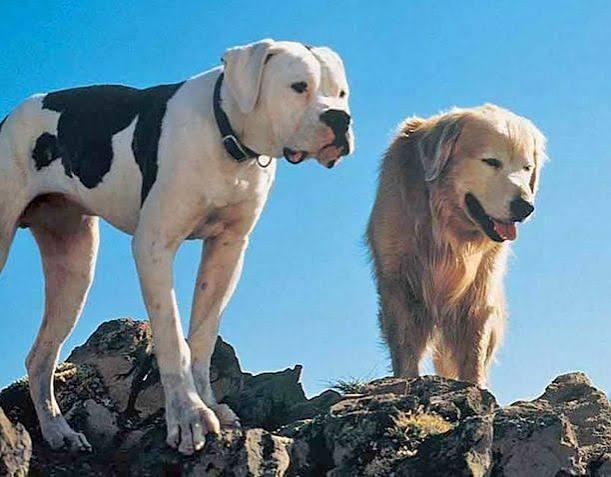adult_dog: (1, 36, 357, 456), (366, 103, 548, 389)
